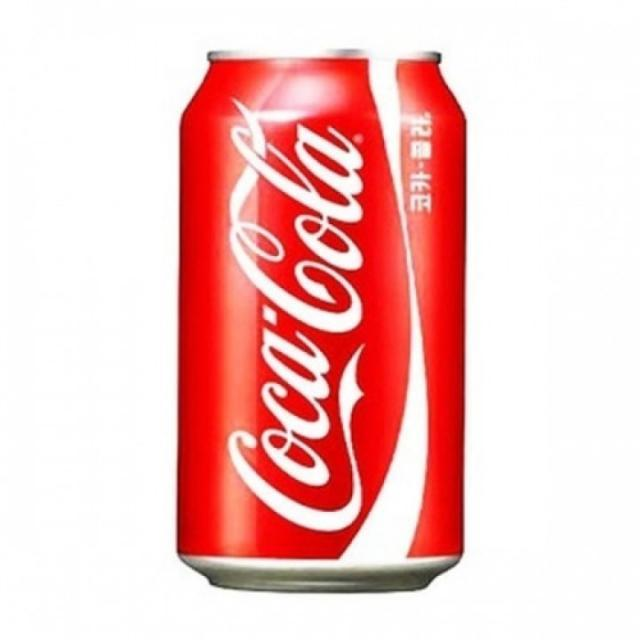coca-cola: (168, 45, 476, 601)
